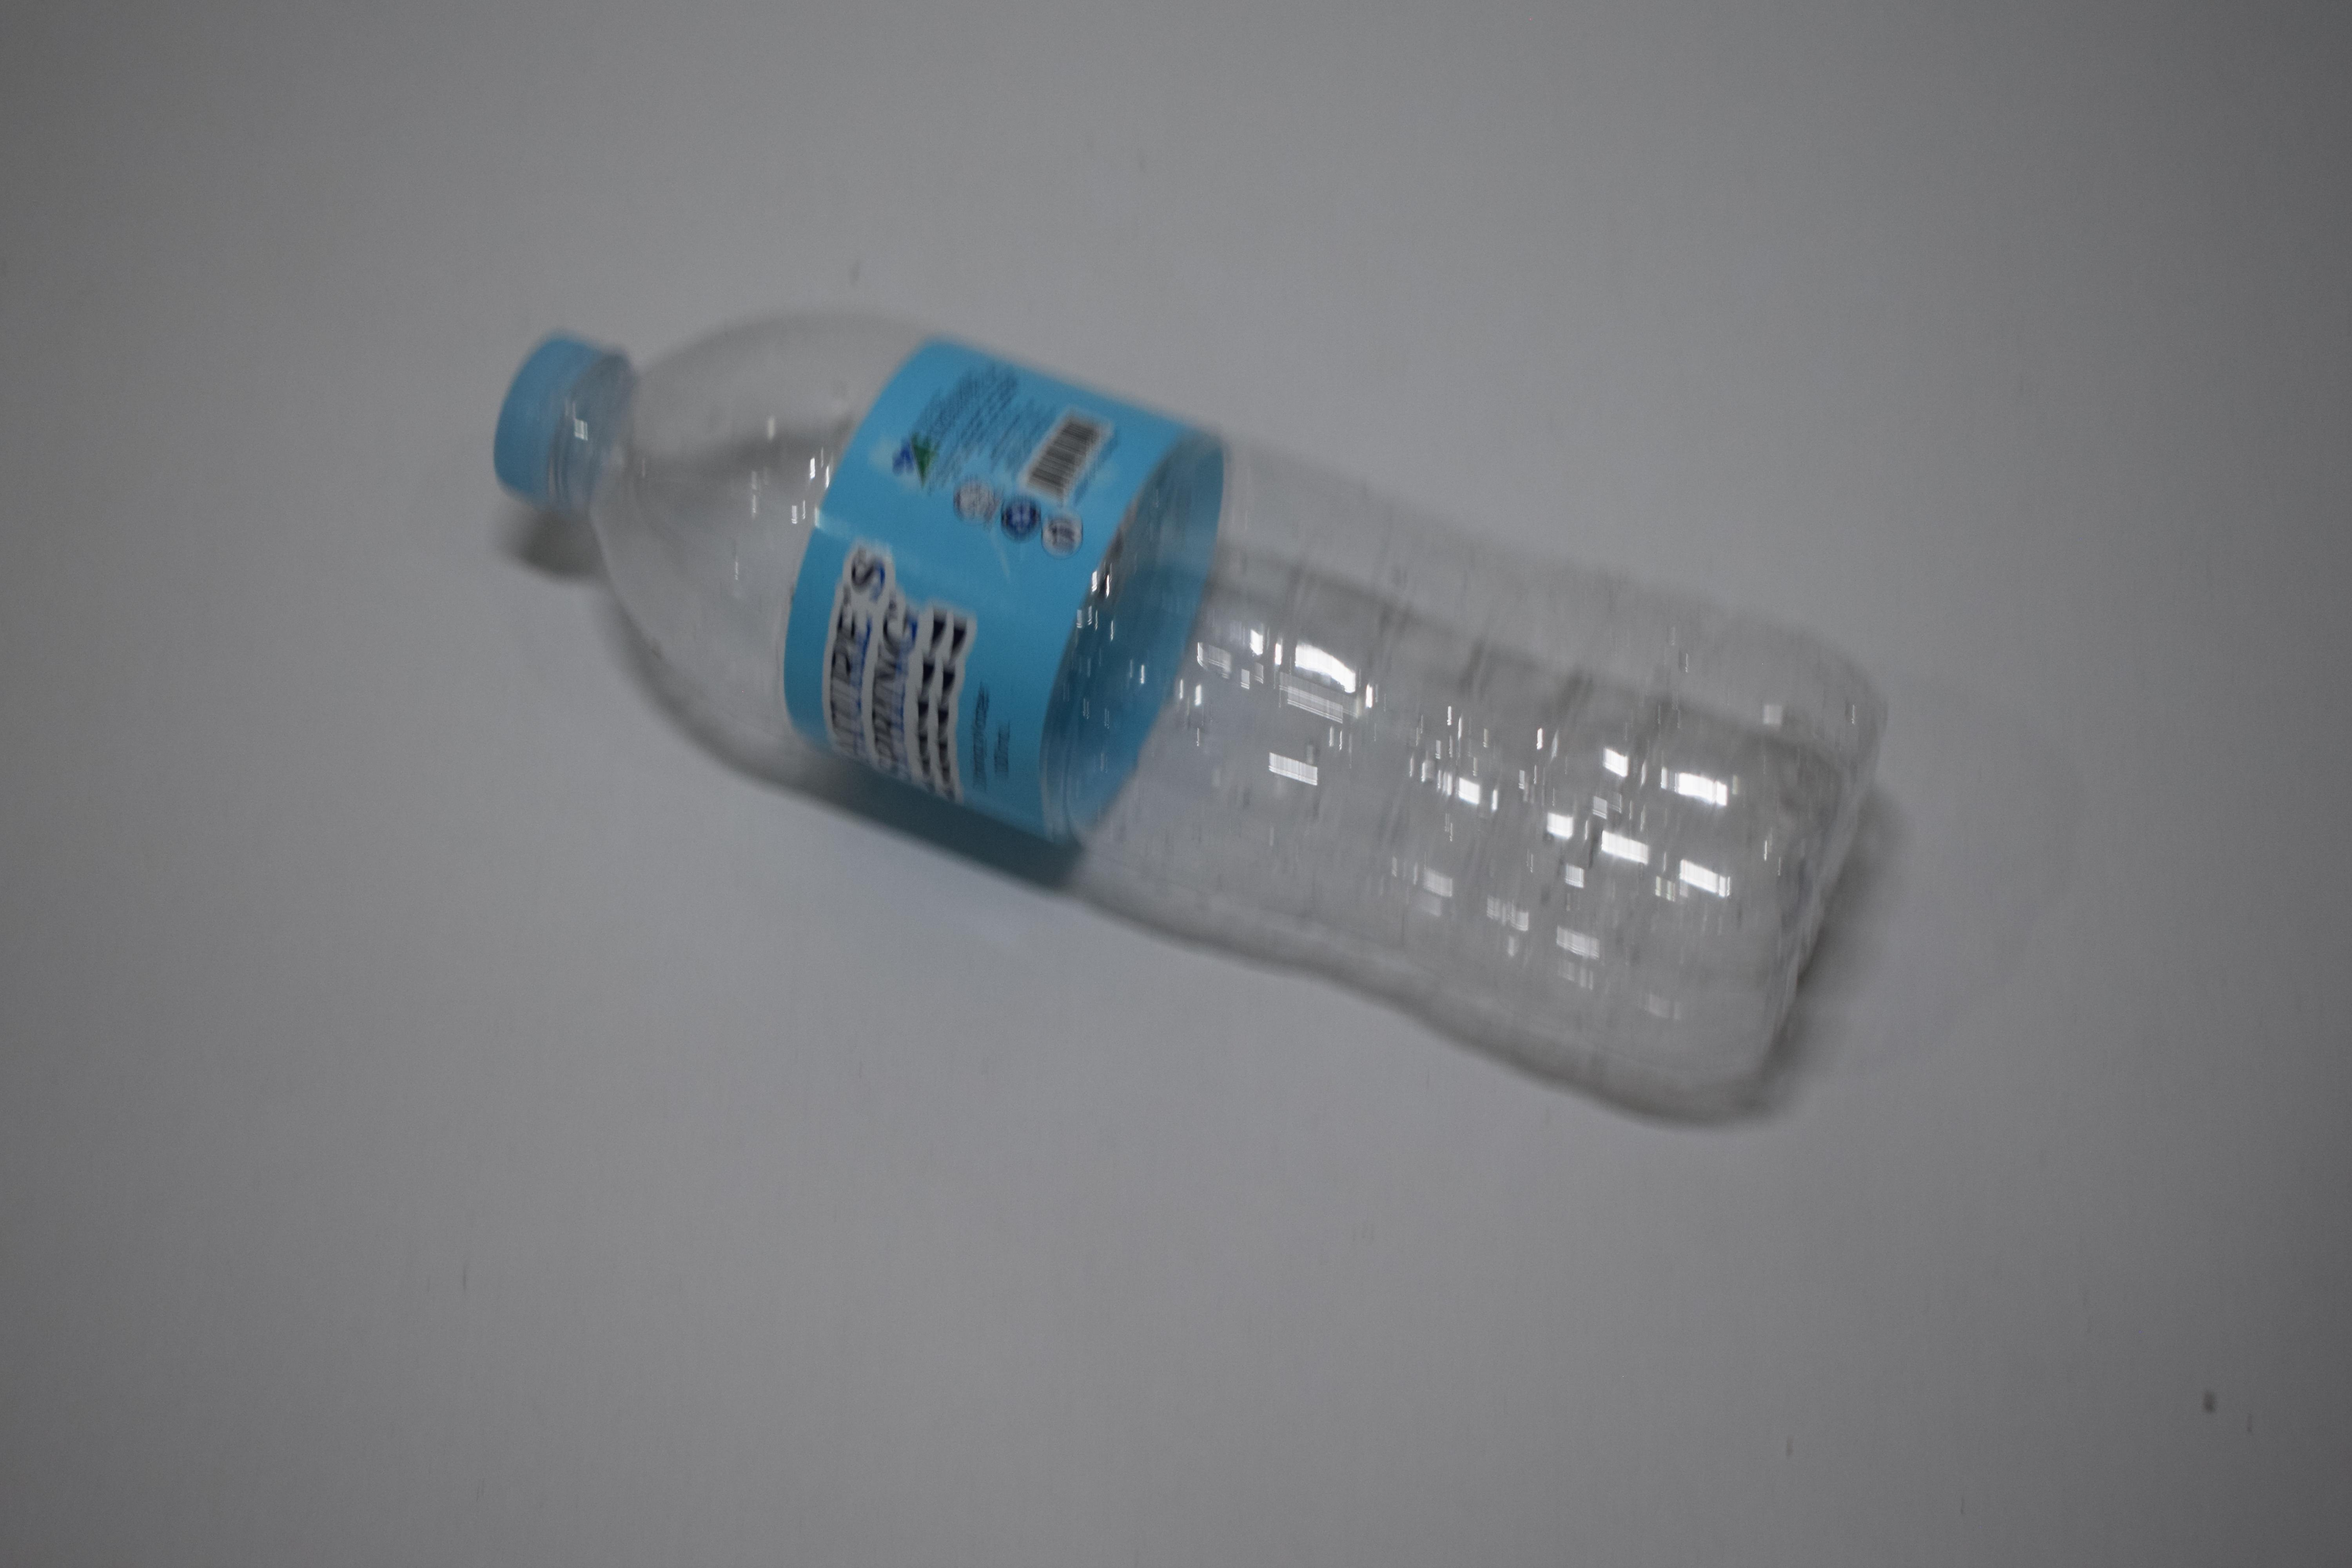bottle: (0, 695, 117, 712)
